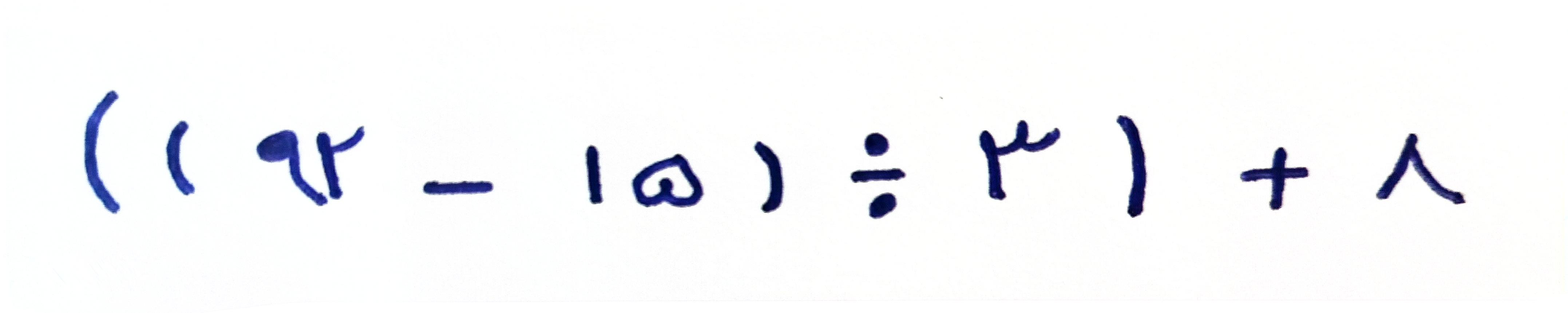character: (1375, 132, 1466, 209), (980, 119, 1060, 199), (256, 127, 328, 206), (851, 131, 905, 218), (84, 90, 122, 213), (1240, 146, 1308, 208), (632, 154, 704, 209), (315, 127, 367, 199), (1116, 116, 1146, 218), (756, 139, 784, 213), (168, 121, 193, 193), (585, 142, 603, 206), (422, 179, 493, 194)
